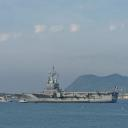Portanaves: (12, 64, 120, 105)
